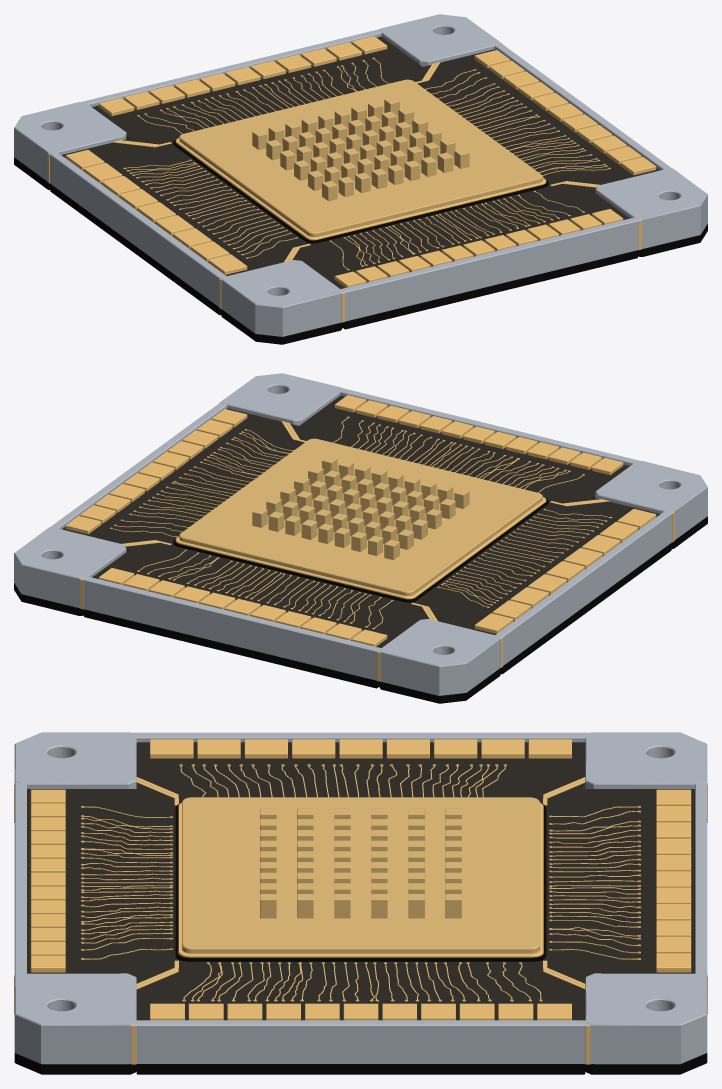
Rendered from MetalChip_v001.glb.
The picture shows the model from 3 angles, top to bottom: view 1: azimuth 30°, elevation 25°; view 2: azimuth 150°, elevation 25°; view 3: azimuth 270°, elevation 25°; orthographic projection. The views are drawn at different scales.
Visible parts, largest first — view 1: Recessed substrate - corner bores kept clear, Continuous brushed silver outer wall, Champagne gold central plate, Corner_NP_Counterbored_Through_Hole, Corner_PP_Counterbored_Through_Hole, Corner_NN_Counterbored_Through_Hole, Corner_PN_Counterbored_Through_Hole, Black ceramic base cross Z, Lower polished gold lip, Black insulating moat under die, Black ceramic base cross X, Black_Base_Corner_NP_Open_Bore (+2 smaller); view 2: Recessed substrate - corner bores kept clear, Continuous brushed silver outer wall, Champagne gold central plate, Corner_NN_Counterbored_Through_Hole, Corner_PN_Counterbored_Through_Hole, Corner_NP_Counterbored_Through_Hole, Corner_PP_Counterbored_Through_Hole, Black ceramic base cross Z, Lower polished gold lip, Black insulating moat under die, Black ceramic base cross X, Black_Base_Corner_NN_Open_Bore (+2 smaller); view 3: Recessed substrate - corner bores kept clear, Champagne gold central plate, Continuous brushed silver outer wall, Corner_PN_Counterbored_Through_Hole, Corner_PP_Counterbored_Through_Hole, Corner_NN_Counterbored_Through_Hole, Corner_NP_Counterbored_Through_Hole, Black ceramic base cross X, Black insulating moat under die, Lower polished gold lip, Black_Base_Corner_PN_Open_Bore, Black_Base_Corner_PP_Open_Bore (+37 smaller).
Part boxes in pixels (bbox=[...]): Recessed substrate - corner bores kept clear: bbox=[61, 36, 659, 288]; Continuous brushed silver outer wall: bbox=[14, 29, 707, 336]; Champagne gold central plate: bbox=[179, 79, 542, 236]; Corner_NP_Counterbored_Through_Hole: bbox=[221, 260, 342, 336]; Corner_PP_Counterbored_Through_Hole: bbox=[595, 168, 707, 248]; Corner_NN_Counterbored_Through_Hole: bbox=[14, 102, 126, 180]; Corner_PN_Counterbored_Through_Hole: bbox=[379, 14, 499, 66]; Black ceramic base cross Z: bbox=[343, 250, 637, 329]; Lower polished gold lip: bbox=[175, 138, 546, 240]; Black insulating moat under die: bbox=[173, 139, 548, 243]; Black ceramic base cross X: bbox=[50, 184, 221, 315]; Black_Base_Corner_NP_Open_Bore: bbox=[221, 309, 342, 344]; Recessed substrate - corner bores kept clear: bbox=[62, 395, 660, 647]; Continuous brushed silver outer wall: bbox=[14, 388, 707, 695]; Champagne gold central plate: bbox=[179, 438, 542, 595]; Corner_NN_Counterbored_Through_Hole: bbox=[379, 619, 500, 695]; Corner_PN_Counterbored_Through_Hole: bbox=[14, 527, 126, 606]; Corner_NP_Counterbored_Through_Hole: bbox=[595, 461, 707, 539]; Corner_PP_Counterbored_Through_Hole: bbox=[222, 373, 342, 425]; Black ceramic base cross Z: bbox=[84, 609, 378, 688]; Lower polished gold lip: bbox=[175, 497, 546, 599]; Black insulating moat under die: bbox=[173, 498, 548, 602]; Black ceramic base cross X: bbox=[500, 543, 671, 674]; Black_Base_Corner_NN_Open_Bore: bbox=[379, 668, 500, 703]; Recessed substrate - corner bores kept clear: bbox=[27, 742, 694, 1020]; Champagne gold central plate: bbox=[182, 797, 539, 953]; Continuous brushed silver outer wall: bbox=[14, 732, 707, 1064]; Corner_PN_Counterbored_Through_Hole: bbox=[585, 973, 707, 1063]; Corner_PP_Counterbored_Through_Hole: bbox=[14, 973, 136, 1063]; Corner_NN_Counterbored_Through_Hole: bbox=[585, 732, 707, 788]; Corner_NP_Counterbored_Through_Hole: bbox=[14, 732, 136, 788]; Black ceramic base cross X: bbox=[136, 1064, 585, 1074]; Black insulating moat under die: bbox=[175, 803, 546, 961]; Lower polished gold lip: bbox=[178, 803, 543, 957]; Black_Base_Corner_PN_Open_Bore: bbox=[585, 1053, 707, 1074]; Black_Base_Corner_PP_Open_Bore: bbox=[14, 1053, 136, 1074].
Size of the model in its own units: 0.1002 by 0.0119 by 0.1002.
